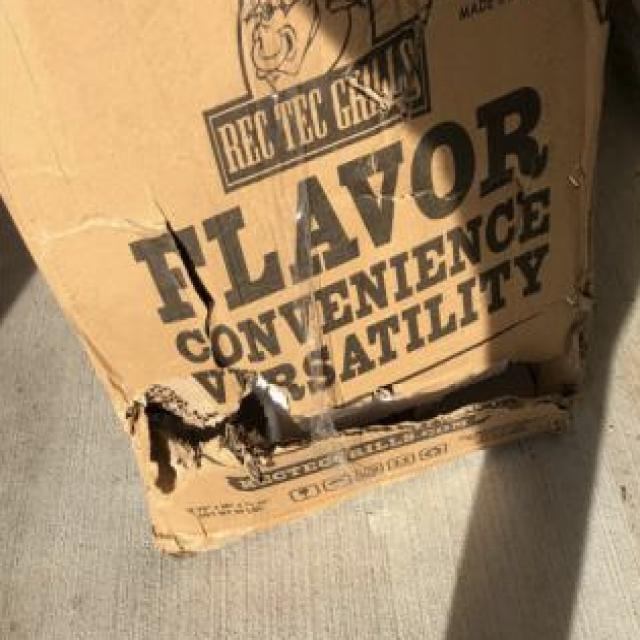hole: (128, 351, 572, 449)
